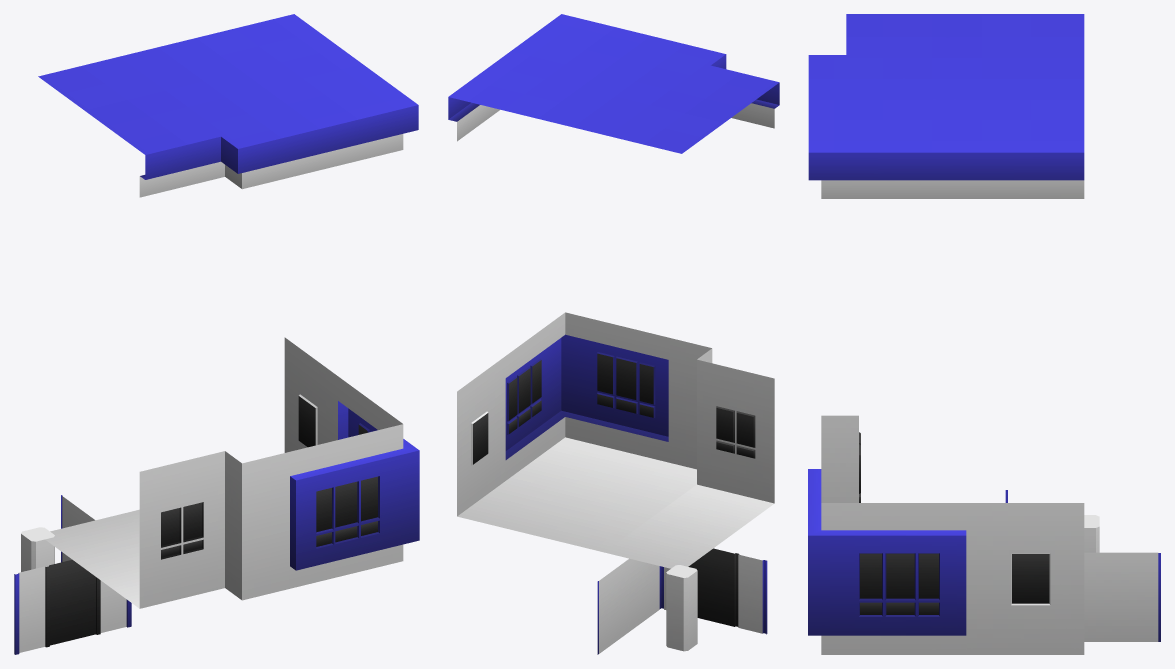
File: buildingBlue.fbx
3 renders of one model, left to right at view 1: azimuth 30°, elevation 25°; view 2: azimuth 150°, elevation 25°; view 3: azimuth 270°, elevation 25°, orthographic. The views are drawn at different scales.
Visible parts, largest first — view 1: buildingTop, roomWall, middleWindowWall, doorWall, corridorWall, roomSideWall1, buildingPillar, doorsideWall; view 2: roomWall, buildingTop, middleWindowWall, roomSideWall1, corridorWall, doorWall, doorsideWall, buildingPillar; view 3: buildingTop, roomSideWall1, corridorWall, doorsideWall, middleWindowWall, roomWall, buildingPillar.
Part boxes in pixels (<box>): buildingTop: <box>38,14,418,197</box>; roomWall: <box>123,424,419,600</box>; middleWindowWall: <box>45,451,241,608</box>; doorWall: <box>14,559,131,654</box>; corridorWall: <box>284,337,337,452</box>; roomSideWall1: <box>338,376,418,450</box>; buildingPillar: <box>21,527,54,571</box>; doorsideWall: <box>61,495,94,562</box>; roomWall: <box>457,312,711,552</box>; buildingTop: <box>448,14,779,153</box>; middleWindowWall: <box>604,348,774,568</box>; roomSideWall1: <box>505,312,565,480</box>; corridorWall: <box>457,356,505,516</box>; doorWall: <box>660,548,767,634</box>; doorsideWall: <box>597,558,660,654</box>; buildingPillar: <box>666,565,697,651</box>; buildingTop: <box>808,14,1084,198</box>; roomSideWall1: <box>808,503,966,654</box>; corridorWall: <box>966,503,1084,654</box>; doorsideWall: <box>1084,552,1160,641</box>; middleWindowWall: <box>821,415,860,502</box>; roomWall: <box>808,469,821,535</box>; buildingPillar: <box>1084,515,1099,552</box>.
Bounding box in the file's own units: 922 × 1506 × 807.
Materials: 1 (1 with a texture image).
